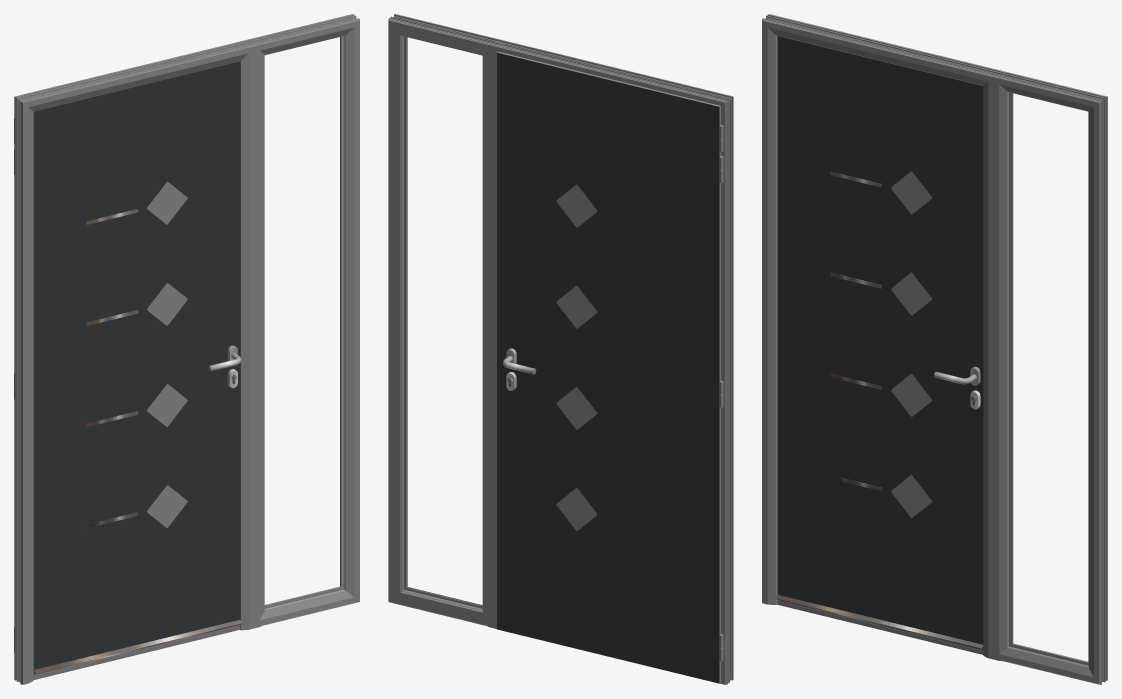
3 views of the same model, side by side, from view 1: azimuth 30°, elevation 25°; view 2: azimuth 150°, elevation 25°; view 3: azimuth 330°, elevation 25° (orthographic).
Parts seen in each view (by area): view 1: bloco_113, Rectangle002, Line004, Vidro Porta, Object, Object001, Line005, Rectangle005, alunox_067, Rectangle003; view 2: bloco_113, Rectangle002, Rectangle003, Line004, Vidro Porta, Object001, Rectangle004, Object; view 3: bloco_113, Rectangle002, Line004, Vidro Porta, Object001, Object, Line005, Rectangle003, Rectangle005, alunox_067.
Boxes of the visible parts, x1,y1,x2,y2 form: bloco_113: (33, 61, 240, 671); Rectangle002: (14, 14, 359, 684); Line004: (240, 46, 264, 630); Vidro Porta: (147, 181, 187, 527); Object: (33, 35, 346, 680); Object001: (264, 36, 344, 608); Line005: (33, 620, 242, 674); Rectangle005: (33, 625, 240, 679); alunox_067: (86, 209, 138, 528); Rectangle003: (264, 37, 340, 605); bloco_113: (497, 52, 719, 683); Rectangle002: (388, 14, 733, 684); Rectangle003: (394, 28, 487, 619); Line004: (488, 41, 504, 628); Vidro Porta: (556, 184, 597, 530); Object001: (401, 36, 482, 610); Rectangle004: (496, 51, 720, 683); Object: (404, 36, 482, 608); bloco_113: (777, 36, 983, 644); Rectangle002: (762, 14, 1107, 684); Line004: (983, 77, 1007, 661); Vidro Porta: (891, 171, 932, 517); Object001: (1007, 92, 1088, 665); Object: (776, 35, 1088, 667); Line005: (775, 595, 983, 649); Rectangle003: (1012, 93, 1087, 662); Rectangle005: (777, 600, 983, 654); alunox_067: (830, 171, 881, 490).
Size of the model in its own units: 1307 by 2150 by 192.
7 materials, 4 textured.
